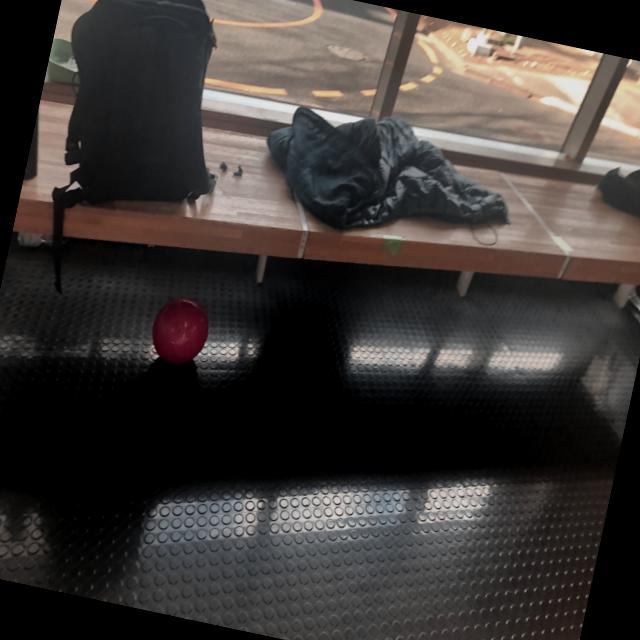red_ball: (146, 291, 213, 370)
